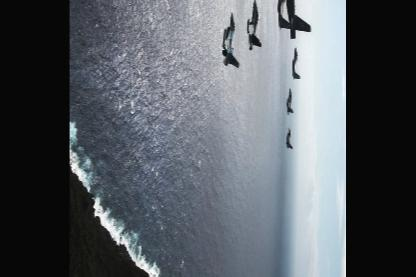B2: (284, 0, 312, 38)
F117: (278, 0, 292, 31), (292, 45, 300, 79)
F14: (222, 11, 239, 67), (286, 126, 293, 148)
F15: (247, 0, 262, 53), (287, 87, 294, 114)
